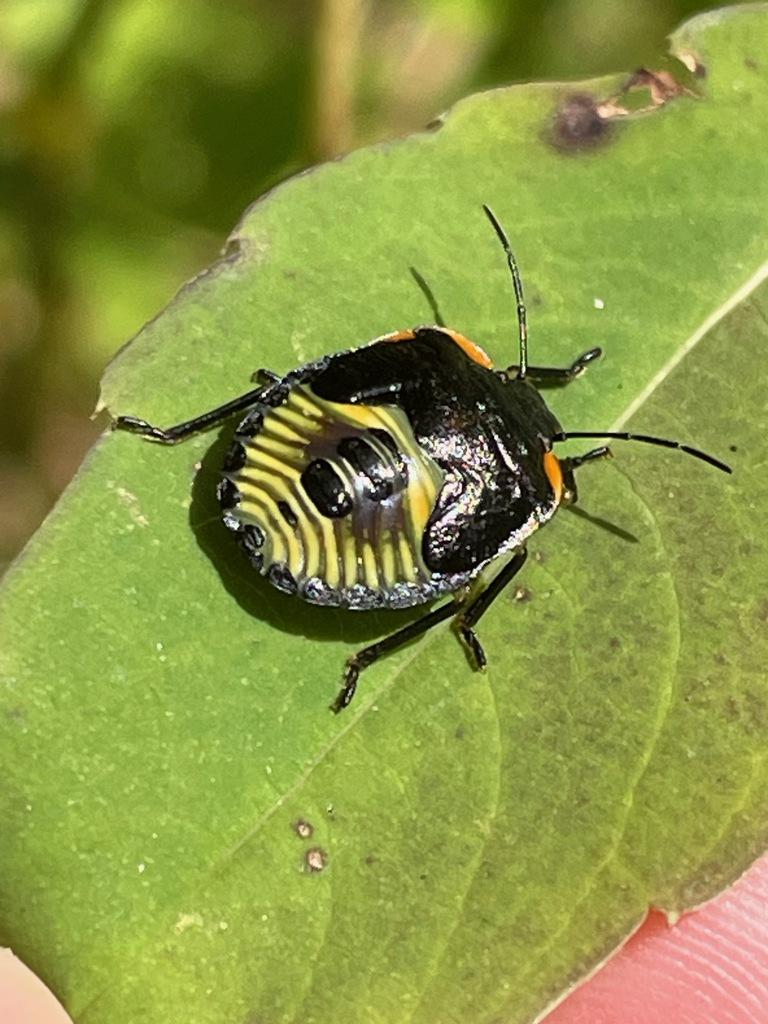stink_bugs: (65, 136, 758, 795)
